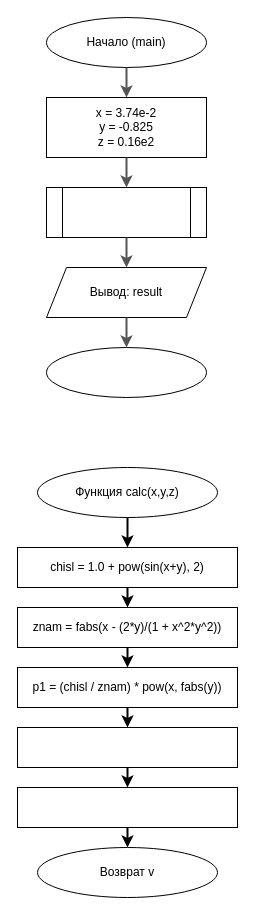
This 255x915 diagram has some shape labels left out. The centre of each missing label's shape, as x and y in pixels:
"p2 = pow(cos(atan(1.0 / z)), 2)" goes at [127,747].
"result = calc(x, y, z)" goes at [126,212].
"v = p1 + p2" goes at [127,807].
"Конец (main)" goes at [126,372].
